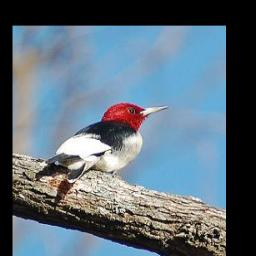Woodpecker: (44, 101, 172, 185)
